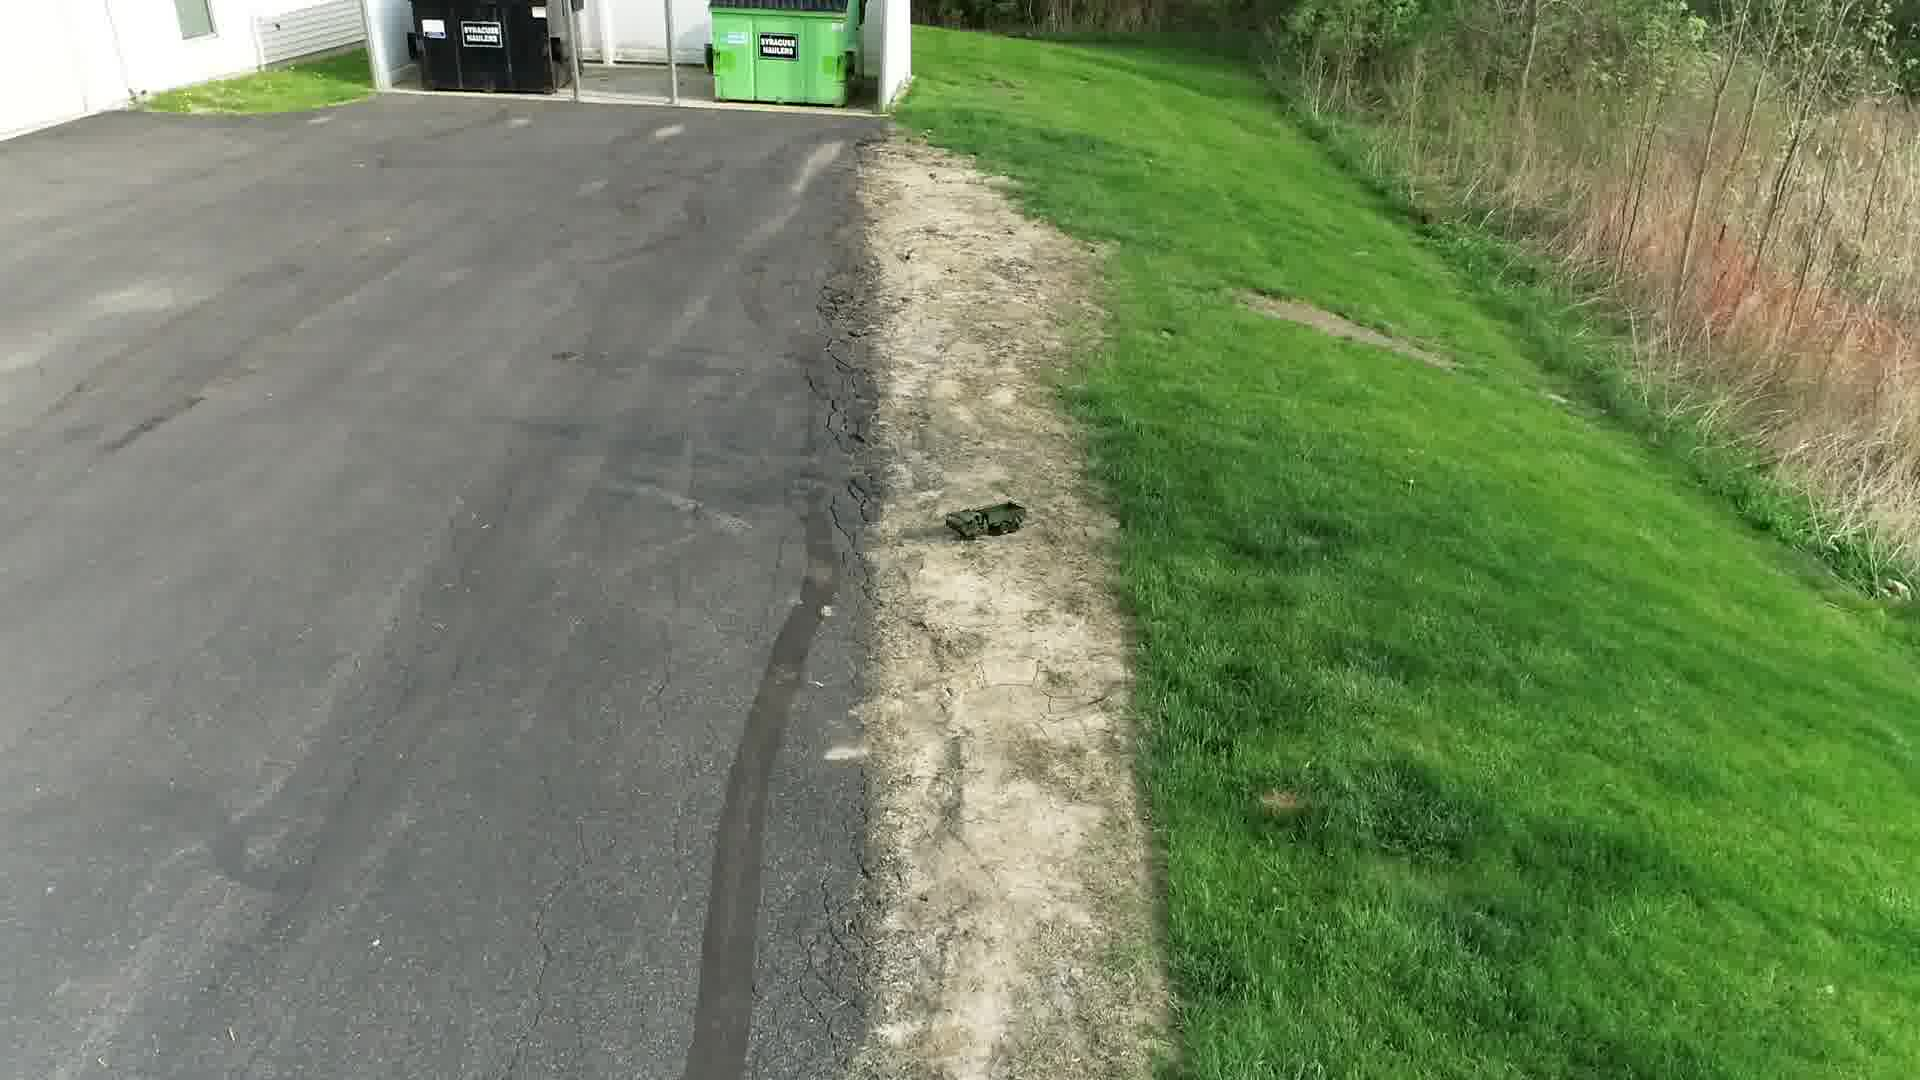transporter9: (942, 498, 1029, 545)
